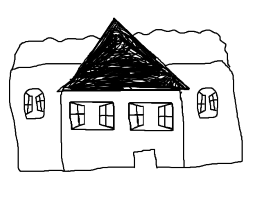door: (129, 144, 162, 177)
open_window: (67, 98, 118, 133), (124, 100, 176, 134), (194, 84, 221, 122), (20, 86, 47, 122)
shaded_roof: (54, 18, 193, 94)
wall: (56, 86, 188, 174)
